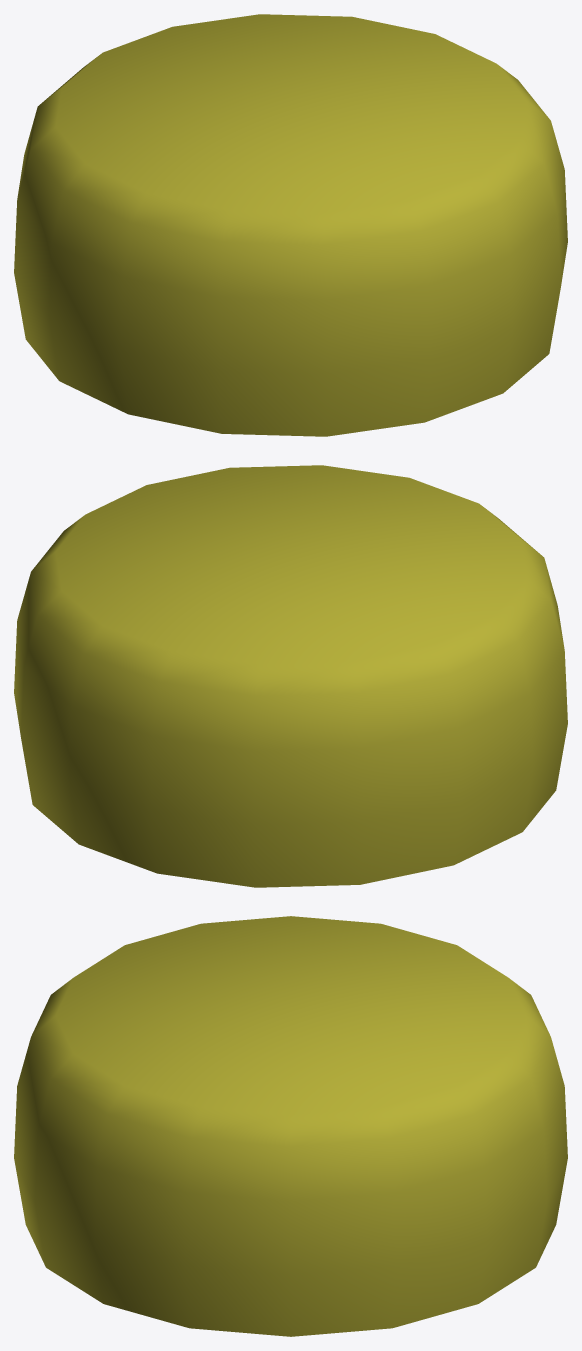
File: Tapa_01.fbx
3 views of the same model, one above another, from view 1: azimuth 30°, elevation 25°; view 2: azimuth 150°, elevation 25°; view 3: azimuth 270°, elevation 25° (orthographic).
Visible parts, largest first — view 1: Tapa_01; view 2: Tapa_01; view 3: Tapa_01.
Boxes of the visible parts, x1=… form: Tapa_01: x1=14, y1=14, x2=567, y2=436; Tapa_01: x1=14, y1=465, x2=567, y2=887; Tapa_01: x1=14, y1=916, x2=567, y2=1336.
Bounding box in the file's own units: 9.59 × 4.03 × 9.59.
